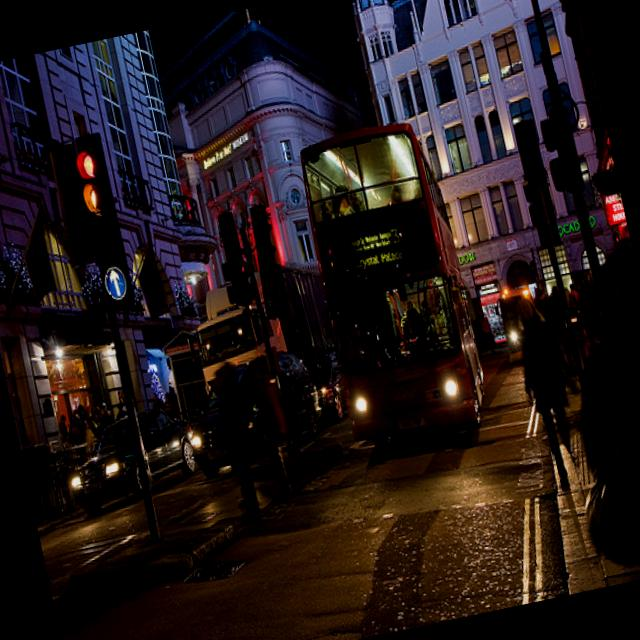Vehicle: (292, 110, 498, 465), (175, 258, 342, 396), (176, 345, 330, 479), (56, 398, 206, 518), (302, 349, 352, 425)
